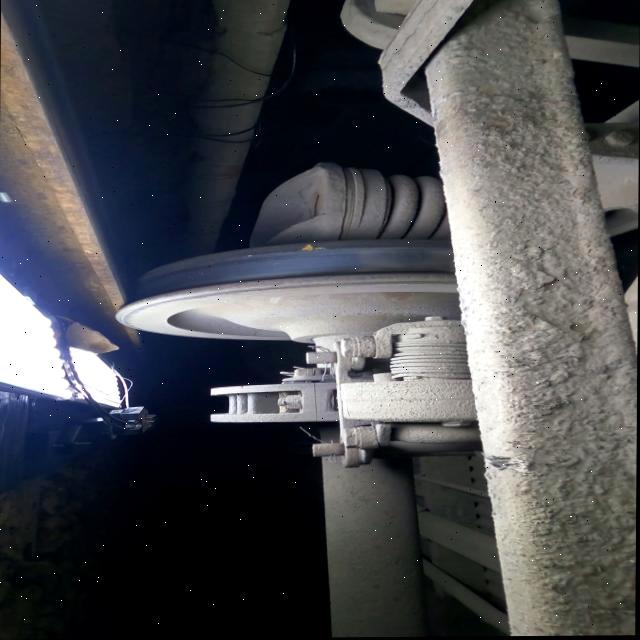Cracks-Scratches: (300, 245, 329, 252)
Shelling: (357, 249, 451, 273)
Wheel: (116, 240, 458, 342)
